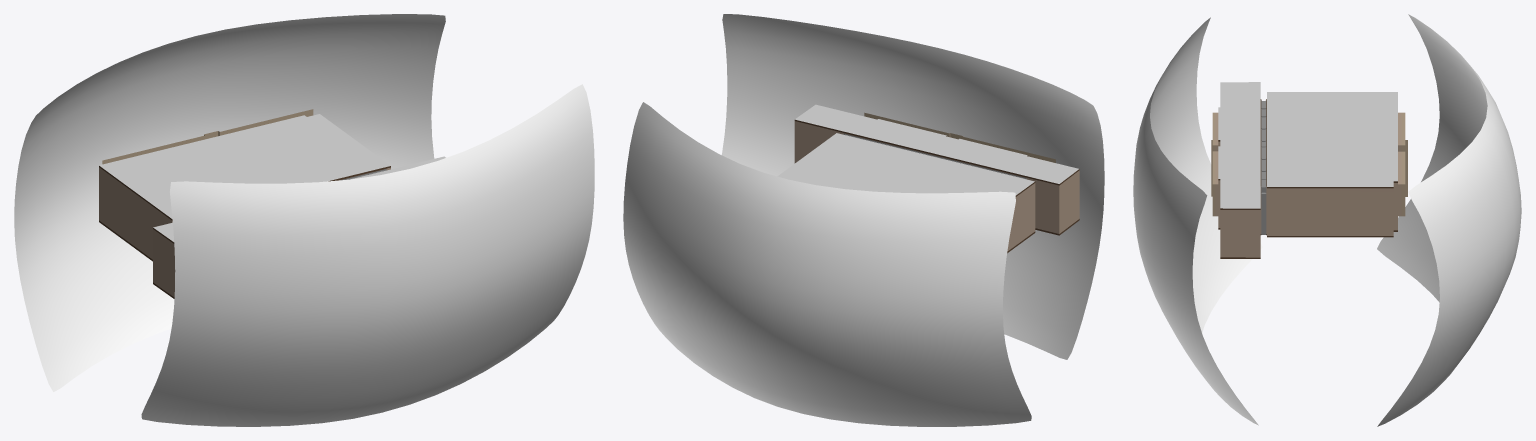
The model's file is anime_classroom.glb.
3 views of the same model, side by side, from view 1: azimuth 30°, elevation 25°; view 2: azimuth 150°, elevation 25°; view 3: azimuth 270°, elevation 25° (orthographic). The views are drawn at different scales.
Visible parts, largest first — view 1: background, room; view 2: background, room; view 3: background, room.
Part boxes in pixels (x1=…): background: x1=14, y1=14, x2=594, y2=426; room: x1=99, y1=109, x2=445, y2=298; background: x1=623, y1=14, x2=1104, y2=426; room: x1=777, y1=104, x2=1079, y2=253; background: x1=1133, y1=14, x2=1521, y2=426; room: x1=1211, y1=82, x2=1407, y2=258.
Size of the model in its own units: 90.89 by 55.25 by 77.68.
